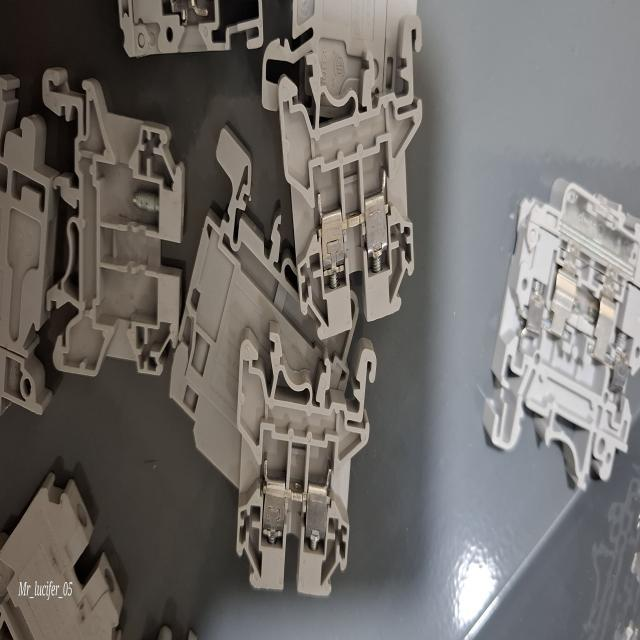Pass: (207, 328, 387, 638), (266, 52, 434, 340)
Reject: (43, 38, 191, 398)
